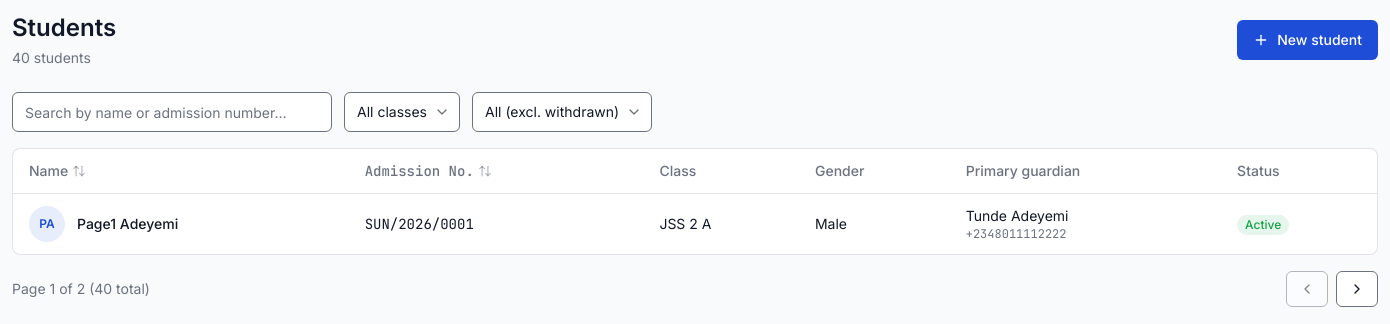
Test case: StudentsListPage › pagination controls request the right page
The width and height of the screenshot is (1390, 324).
Expected: the text "Page1 Adeyemi" is shown, [77, 214, 178, 234]
What coordinates should you click on to do the following:
click the button named "Next page"
I would click on:
 (1357, 289)
Its box is [1336, 271, 1378, 307].
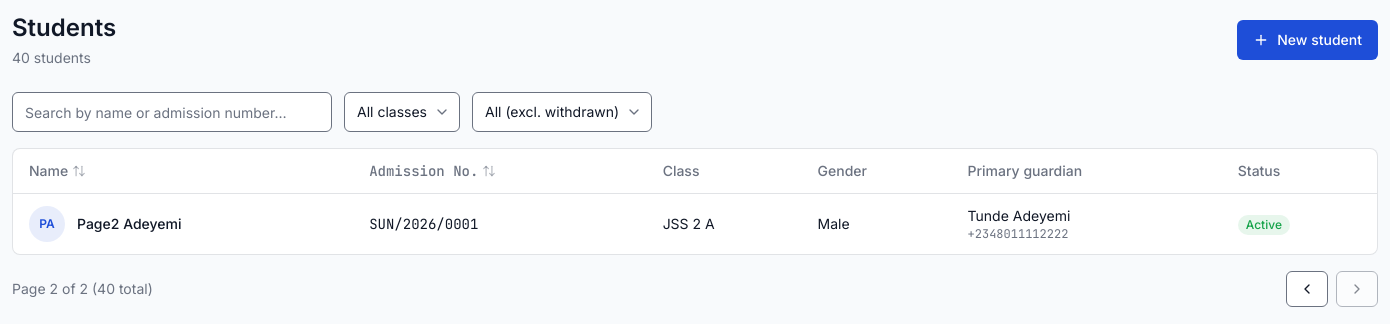
Now the text "Page2 Adeyemi" is shown, box [77, 214, 182, 234]
